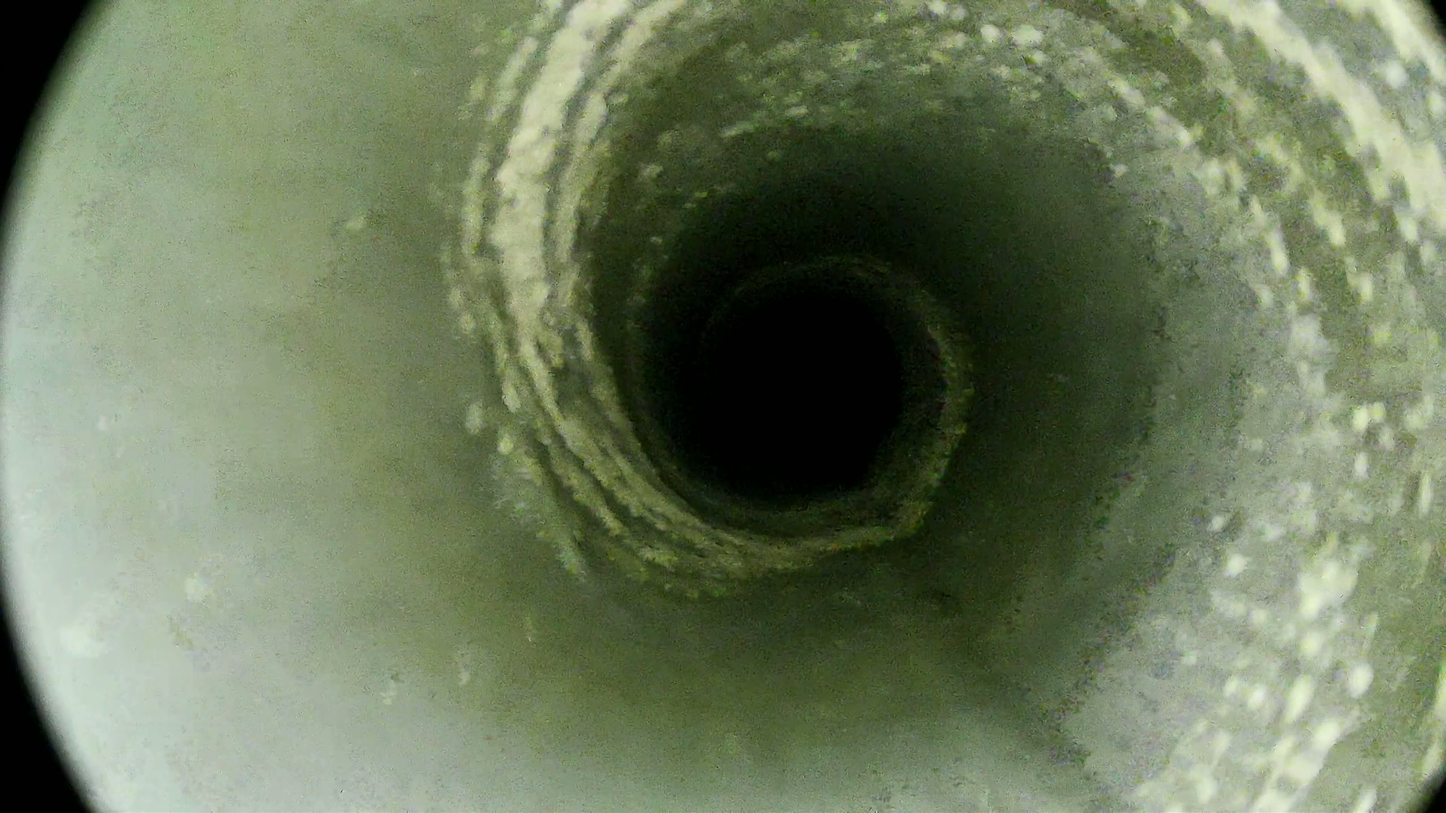hole: (712, 296, 901, 484)
